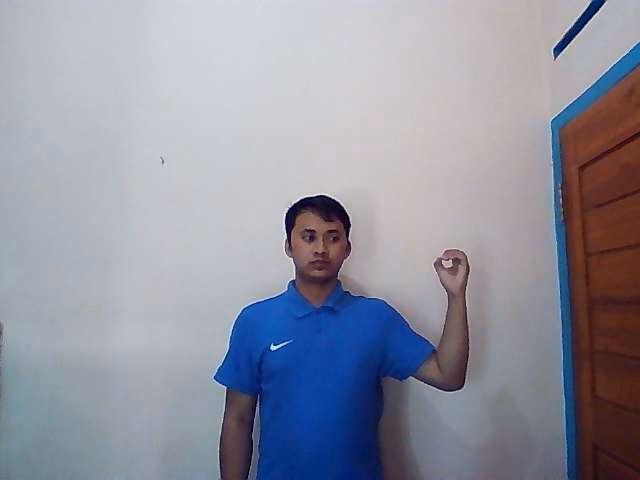O: (432, 248, 472, 295)
